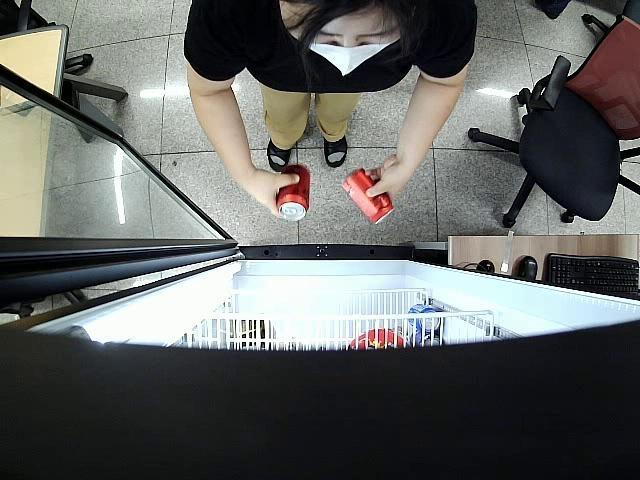11_cocaColaZero: (342, 169, 396, 226), (276, 162, 310, 222)
